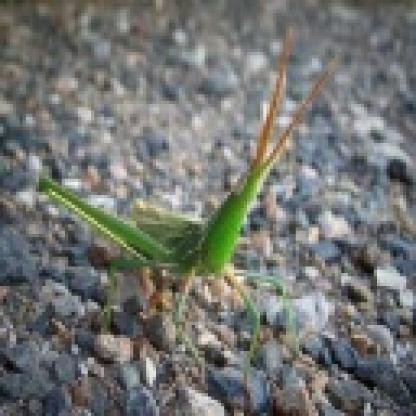grasshopper: (37, 67, 284, 349)
